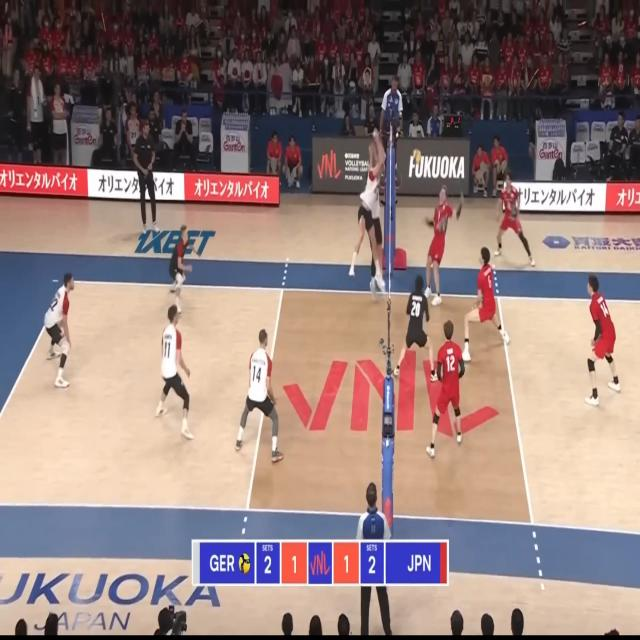ball: (413, 149, 421, 164)
